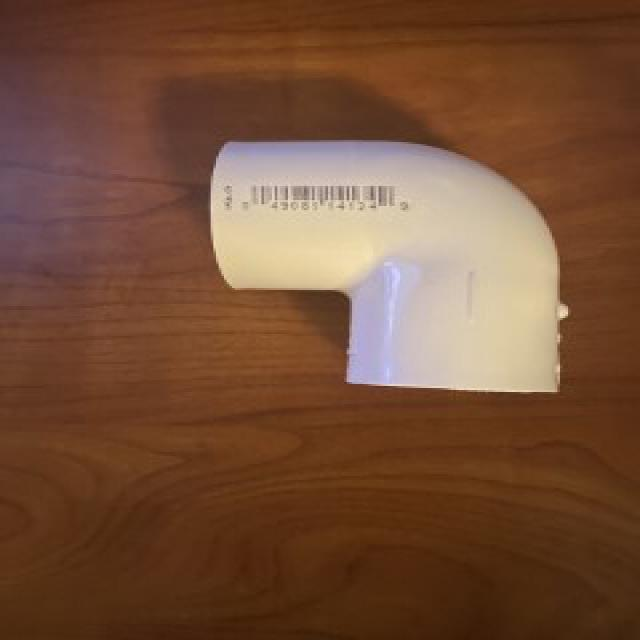L Joint: (207, 140, 567, 396)
